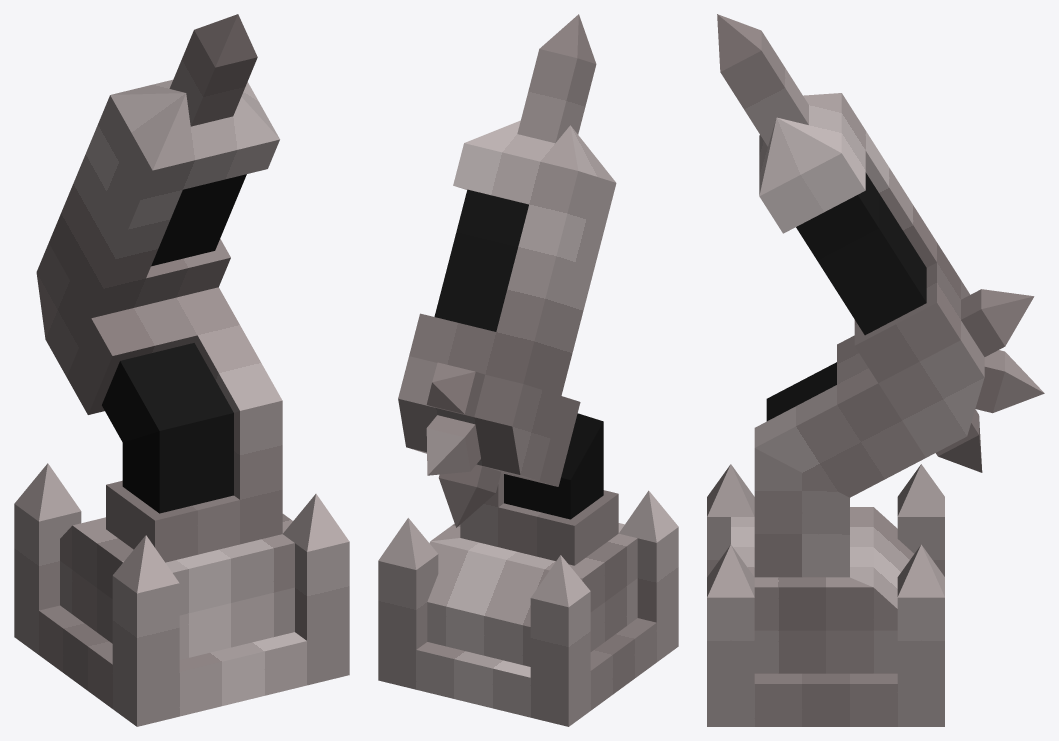
Rendered from leg_basic_r.obj.
3 renders of one model, left to right at view 1: azimuth 30°, elevation 25°; view 2: azimuth 150°, elevation 25°; view 3: azimuth 270°, elevation 25°, orthographic. The views are drawn at different scales.
Parts seen in each view (by area): view 1: LEG_RIGHT_BASIC_Cube.038, LEG_RIGHT_DECO_IRON_Cube.158, LEG_RIGHT_DECO_IRON_OUTERFOOT_Cube.159; view 2: LEG_RIGHT_BASIC_Cube.038, LEG_RIGHT_DECO_IRON_Cube.158, LEG_RIGHT_DECO_IRON_OUTERFOOT_Cube.159; view 3: LEG_RIGHT_BASIC_Cube.038, LEG_RIGHT_DECO_IRON_Cube.158, LEG_RIGHT_DECO_IRON_OUTERFOOT_Cube.159.
Boxes of the visible parts, <box> form: LEG_RIGHT_BASIC_Cube.038: <box>14,79,349,726</box>; LEG_RIGHT_DECO_IRON_Cube.158: <box>14,14,257,682</box>; LEG_RIGHT_DECO_IRON_OUTERFOOT_Cube.159: <box>283,493,349,640</box>; LEG_RIGHT_BASIC_Cube.038: <box>378,120,678,726</box>; LEG_RIGHT_DECO_IRON_Cube.158: <box>426,14,678,686</box>; LEG_RIGHT_DECO_IRON_OUTERFOOT_Cube.159: <box>378,518,438,649</box>; LEG_RIGHT_BASIC_Cube.038: <box>707,93,984,726</box>; LEG_RIGHT_DECO_IRON_Cube.158: <box>707,14,1044,576</box>; LEG_RIGHT_DECO_IRON_OUTERFOOT_Cube.159: <box>707,544,944,683</box>.
Size of the model in its own units: 0.3125 by 0.9599 by 0.4435.
